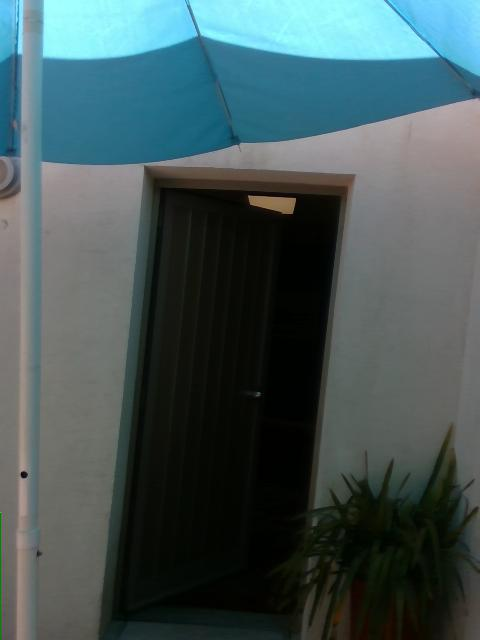semi_door: (101, 164, 355, 637)
